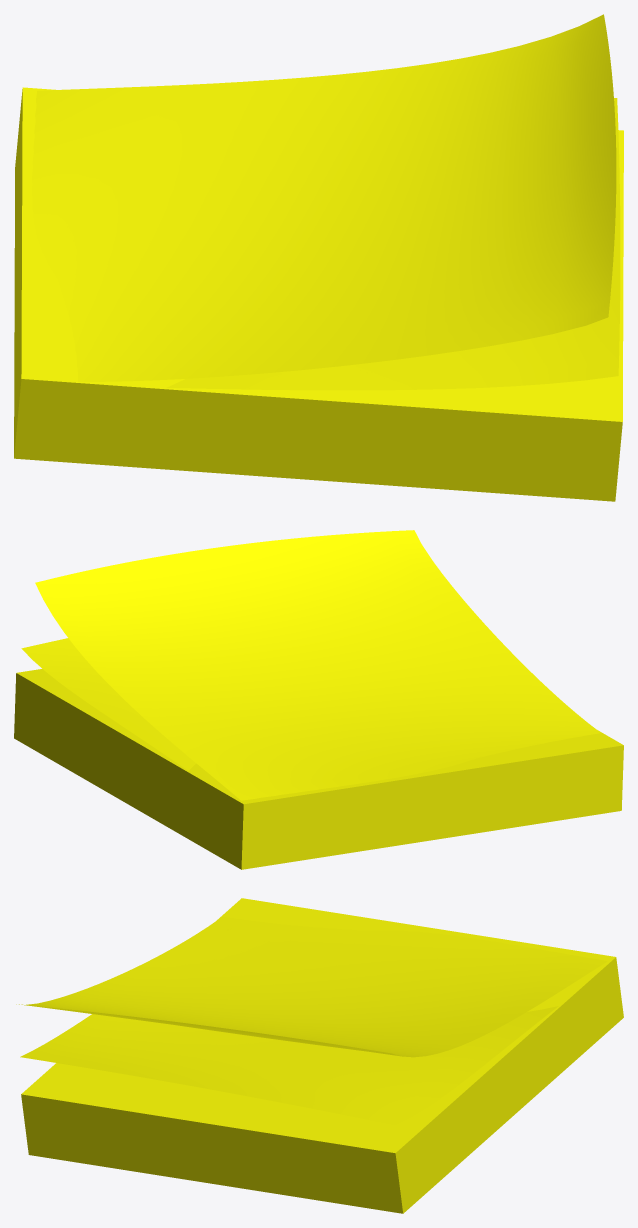
File: postit.glb
3 renders of one model, top to bottom at view 1: azimuth 30°, elevation 25°; view 2: azimuth 150°, elevation 25°; view 3: azimuth 270°, elevation 25°, orthographic. The views are drawn at different scales.
Parts seen in each view (by area): view 1: p0000.89795; view 2: p0000.89795; view 3: p0000.89795.
Part boxes in pixels (left/top/right/bottom): p0000.89795: left=14, top=14, right=623, bottom=501; p0000.89795: left=14, top=530, right=623, bottom=869; p0000.89795: left=16, top=898, right=623, bottom=1213.
Size of the model in its own units: 0.51 by 0.1727 by 0.5135.
